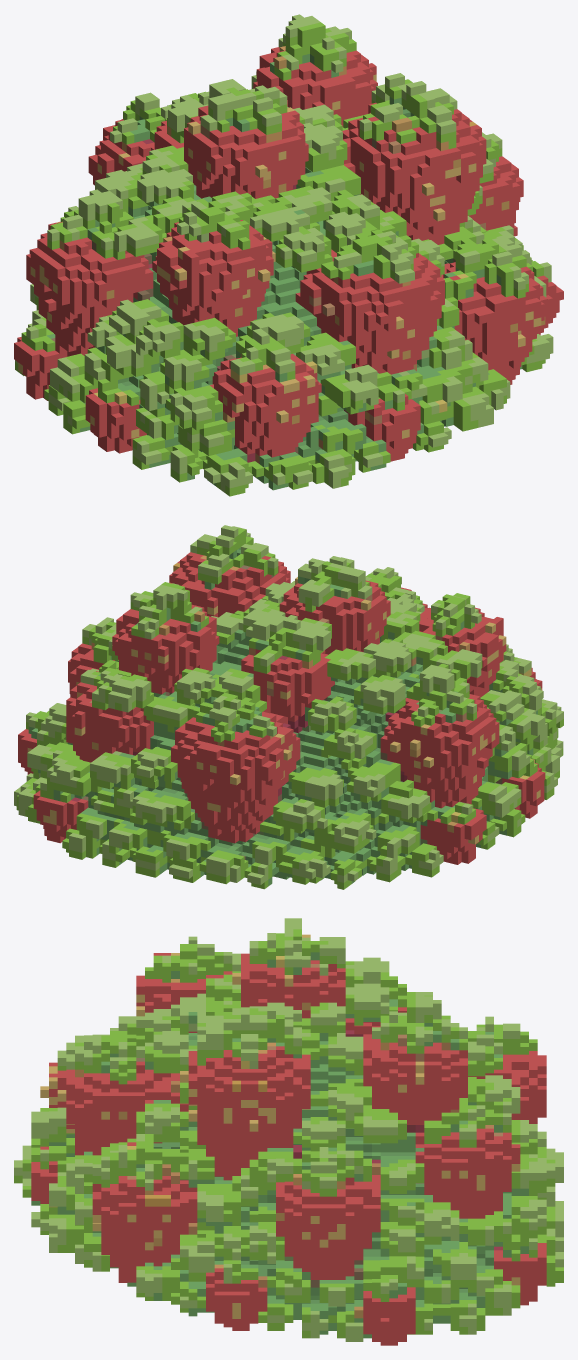
Rendered from berry_voxel.glb.
3 renders of one model, top to bottom at view 1: azimuth 30°, elevation 25°; view 2: azimuth 150°, elevation 25°; view 3: azimuth 270°, elevation 25°, orthographic. The views are drawn at different scales.
Size of the model in its own units: 66 by 34 by 63.
